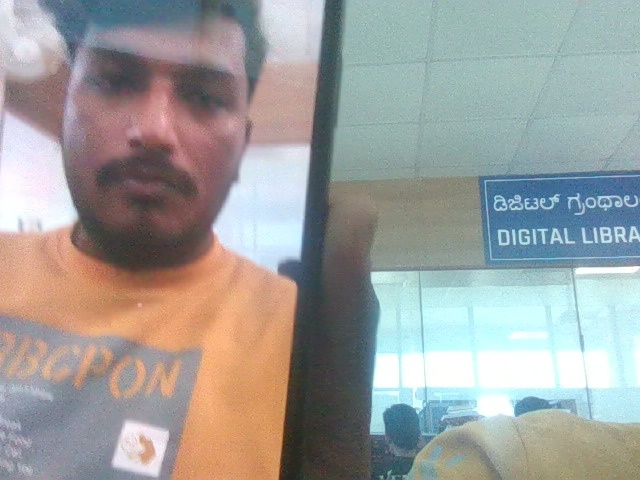fake: (34, 0, 281, 350)
